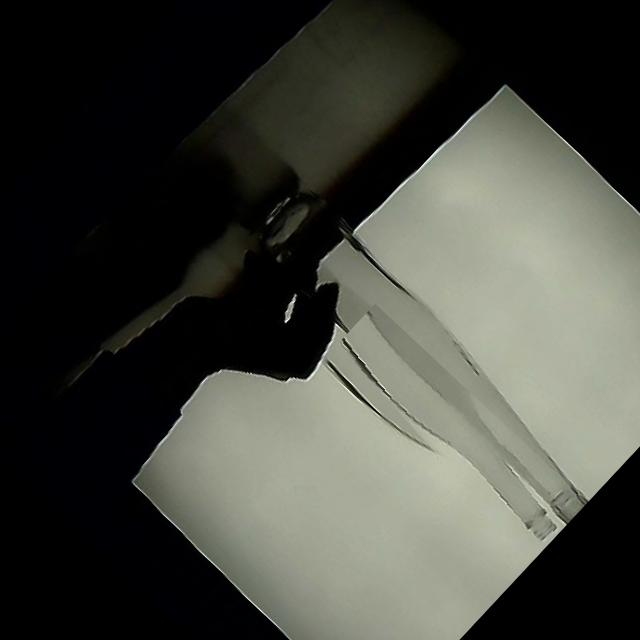Glass: (240, 176, 614, 534), (318, 303, 582, 556)
